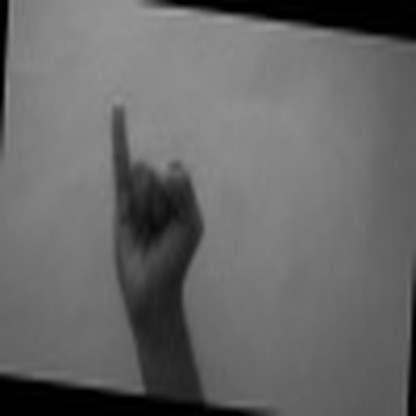i: (92, 87, 205, 312)
